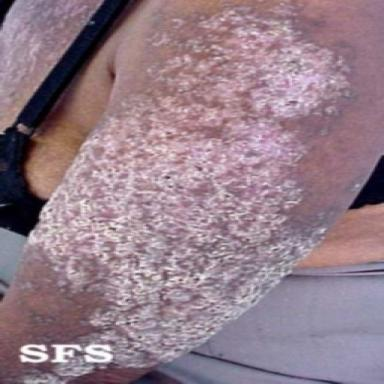Darier_s-Disease: (4, 1, 368, 384)
